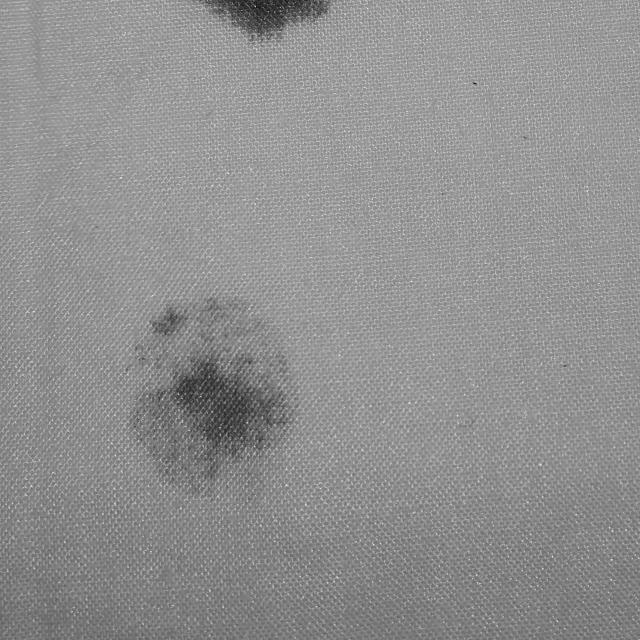Stain: (128, 297, 297, 500), (199, 0, 331, 41)
